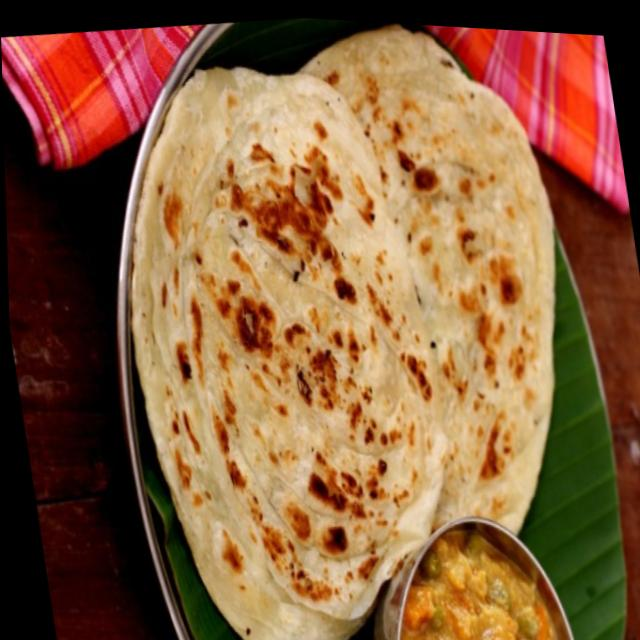CURRY: (401, 529, 560, 640)
PAROTTA: (129, 24, 557, 640)
